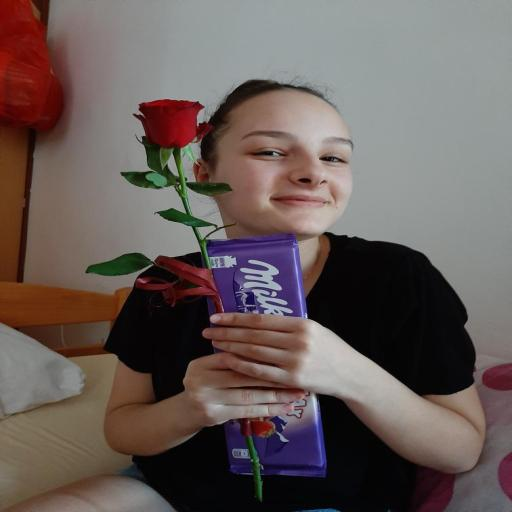marija: (214, 90, 356, 236)
